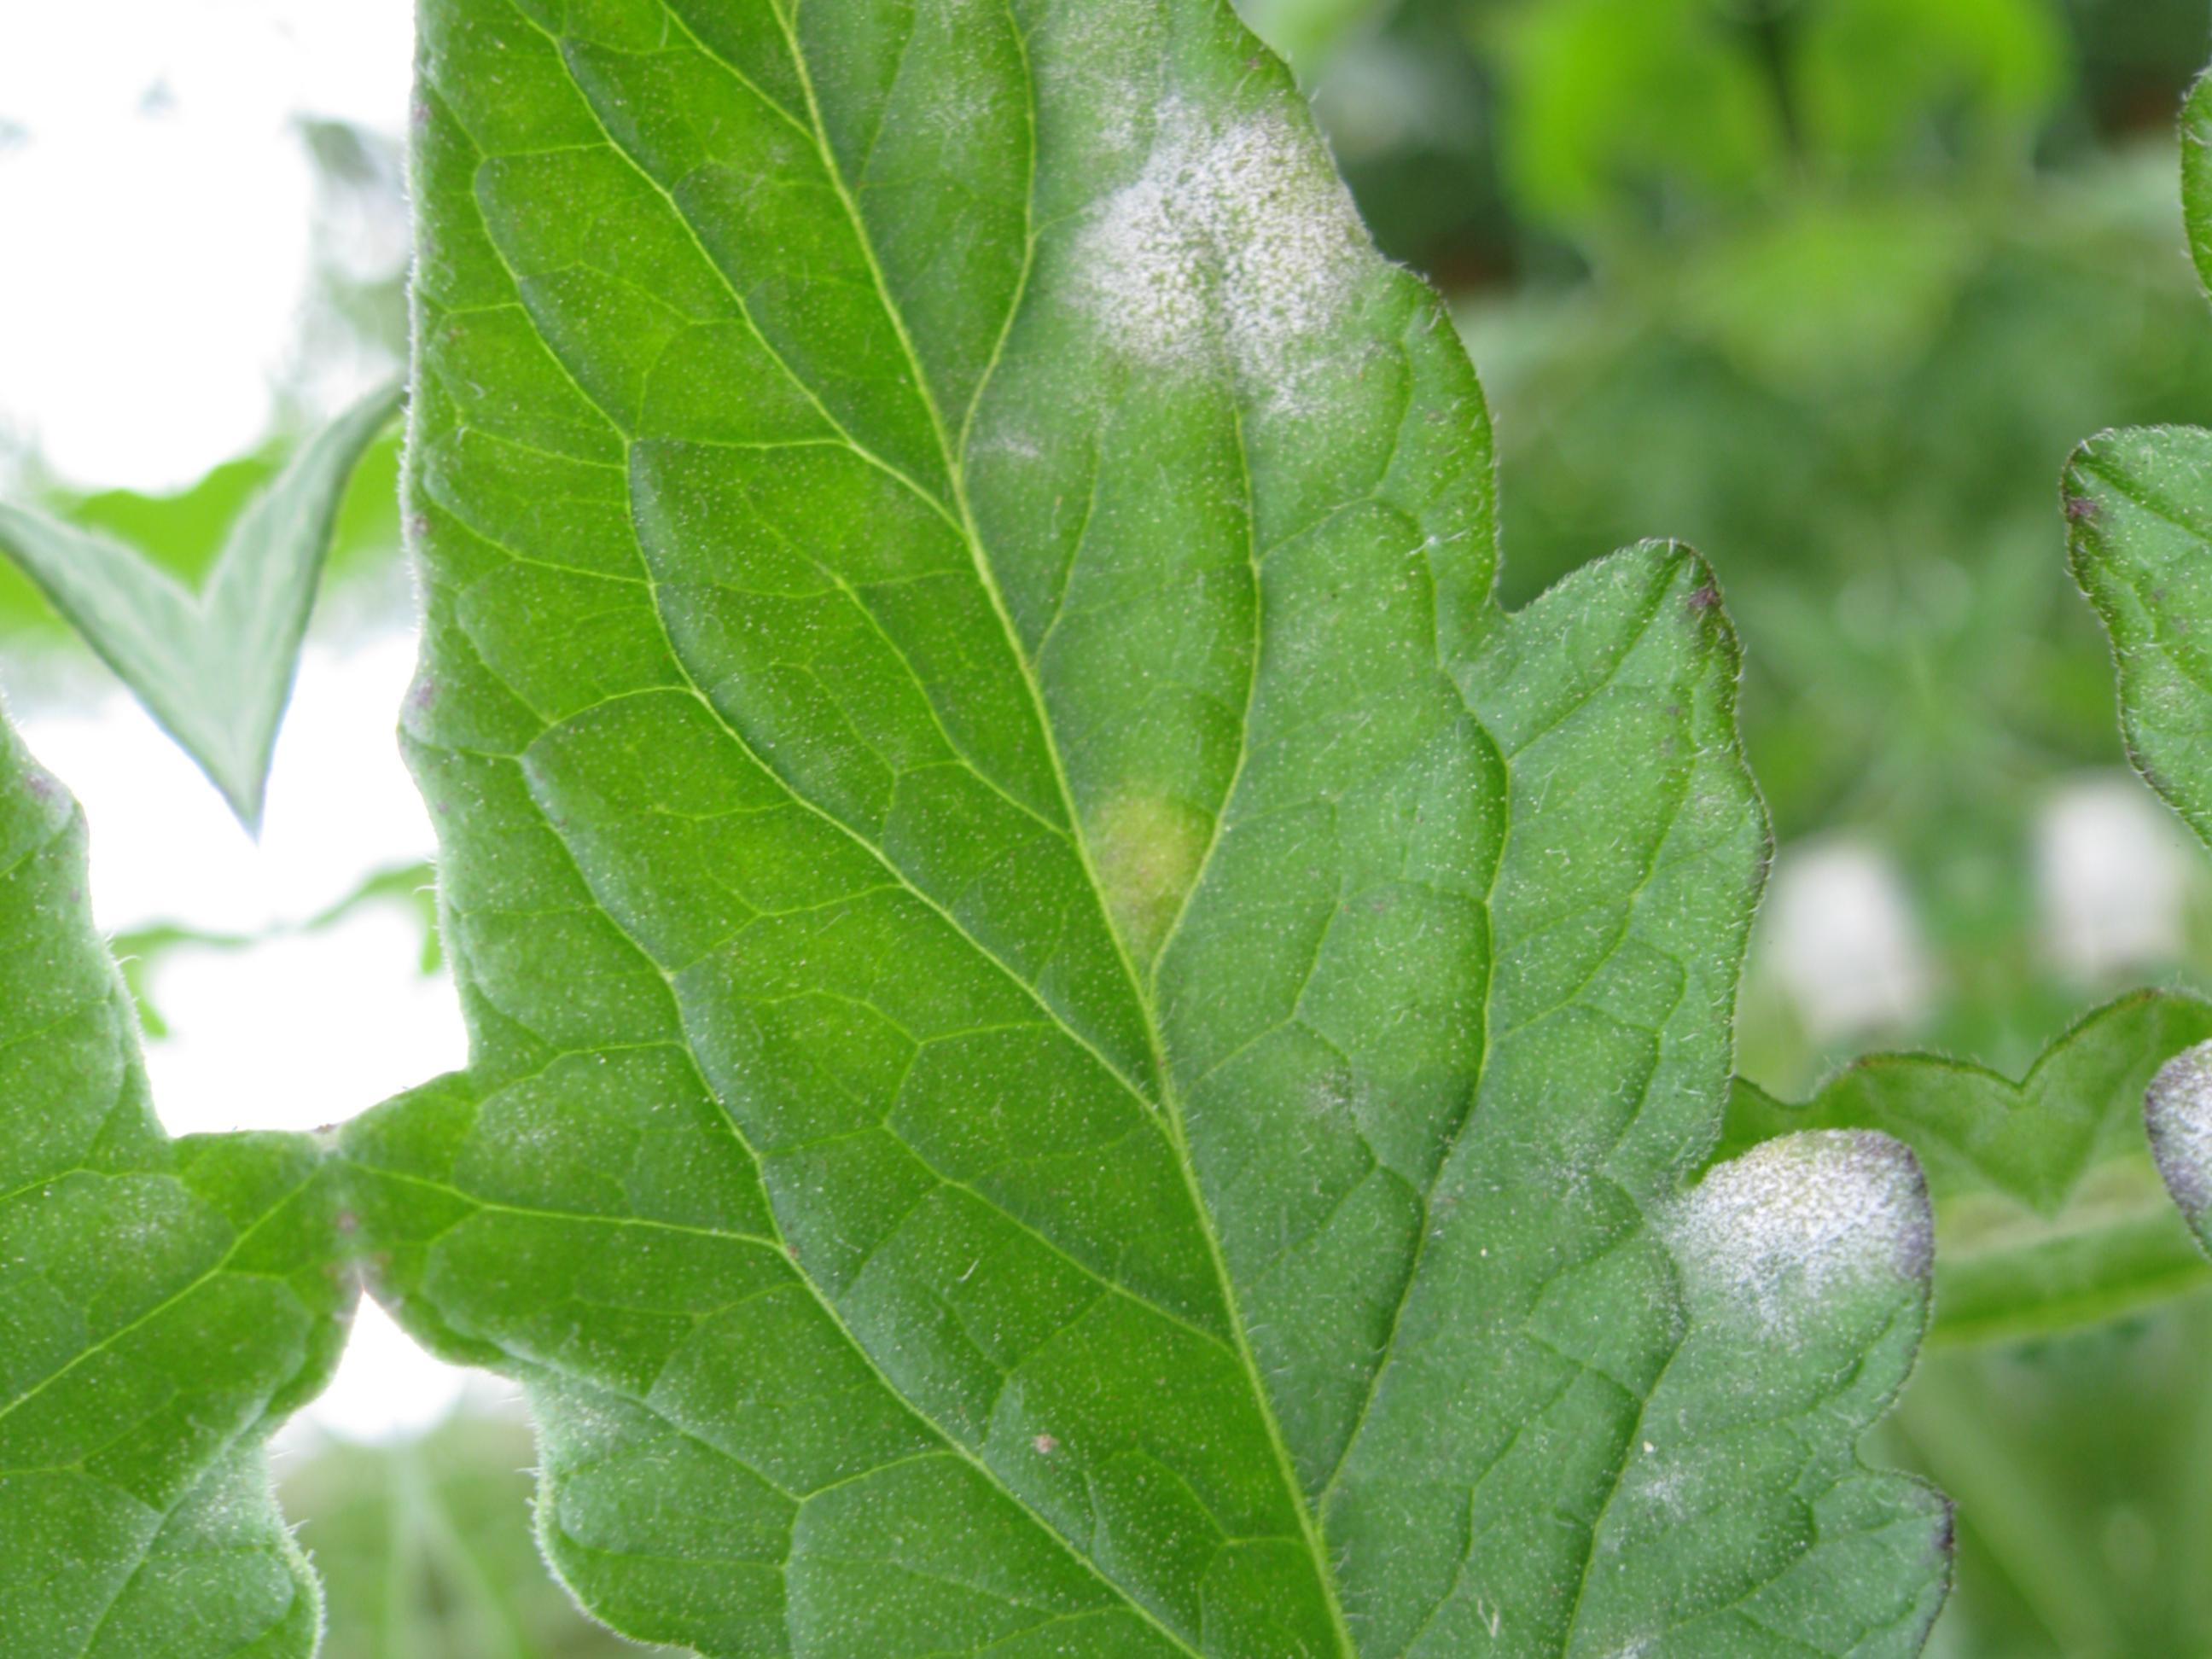Tomato mold leaf: (59, 0, 2081, 1659)
